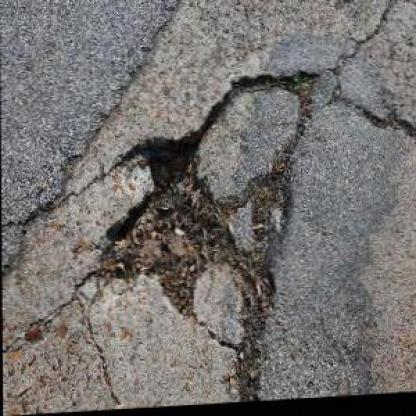pothole: (93, 68, 323, 369)
